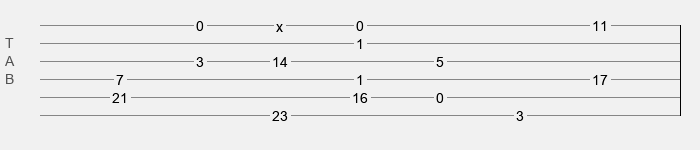0: (196, 18, 204, 28), (356, 18, 364, 28), (436, 90, 444, 100)
1: (356, 72, 364, 82), (356, 36, 364, 46)
11: (592, 18, 608, 28)
14: (272, 54, 288, 64)
16: (352, 90, 368, 100)
17: (592, 72, 608, 82)
21: (112, 90, 128, 100)
23: (272, 108, 288, 118)
3: (196, 54, 204, 64), (516, 108, 524, 118)
5: (436, 54, 444, 64)
7: (116, 72, 124, 82)
x: (276, 19, 283, 27)
